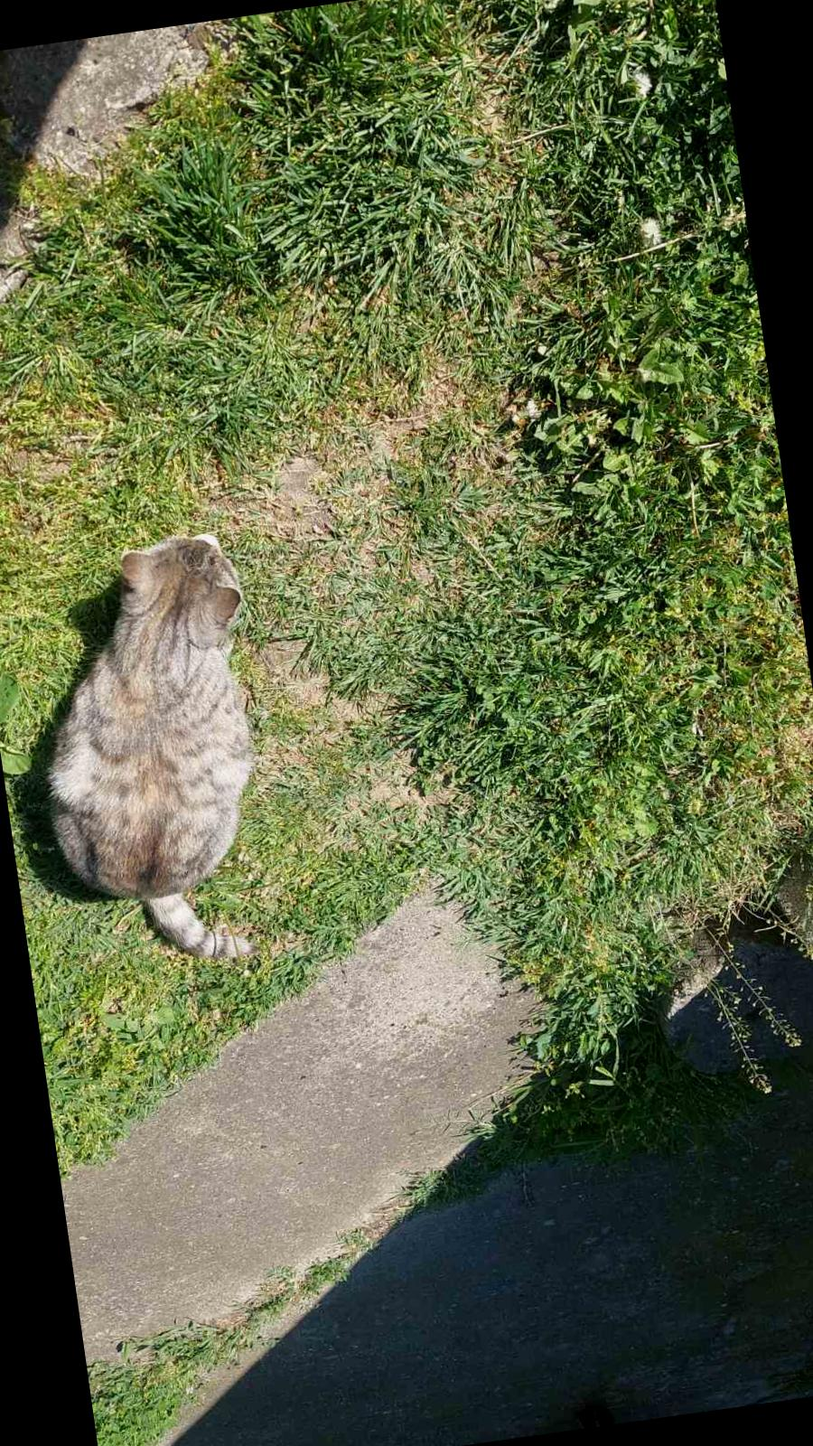macka: (14, 526, 293, 981)
